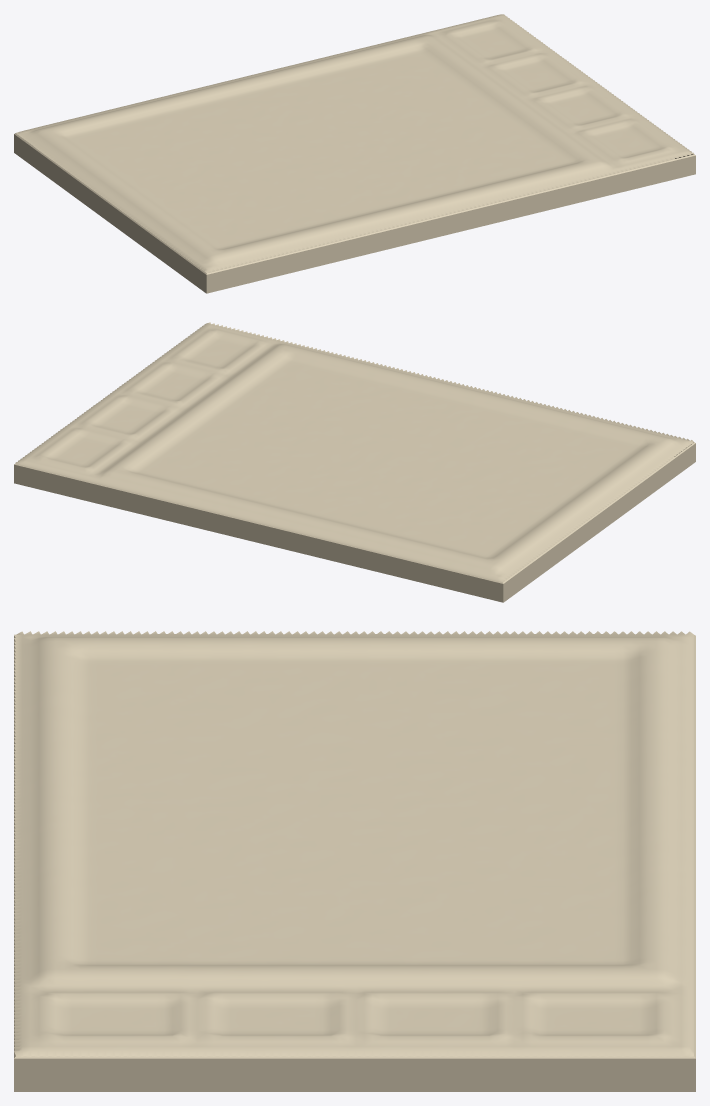
Rendered from mahsulot.glb.
The picture shows the model from 3 angles, top to bottom: view 1: azimuth 30°, elevation 25°; view 2: azimuth 150°, elevation 25°; view 3: azimuth 270°, elevation 25°; orthographic projection. The views are drawn at different scales.
Visible parts, largest first — view 1: mahsulot; view 2: mahsulot; view 3: mahsulot.
Boxes of the visible parts, box(x1,y1,x2,y2) form: mahsulot: box(14, 14, 695, 293); mahsulot: box(14, 322, 695, 602); mahsulot: box(14, 631, 695, 1091).
Bounding box in the file's own units: 0.8 × 0.0399 × 0.545.
